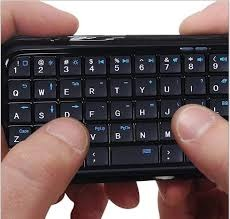keyboard: (2, 36, 229, 177)
